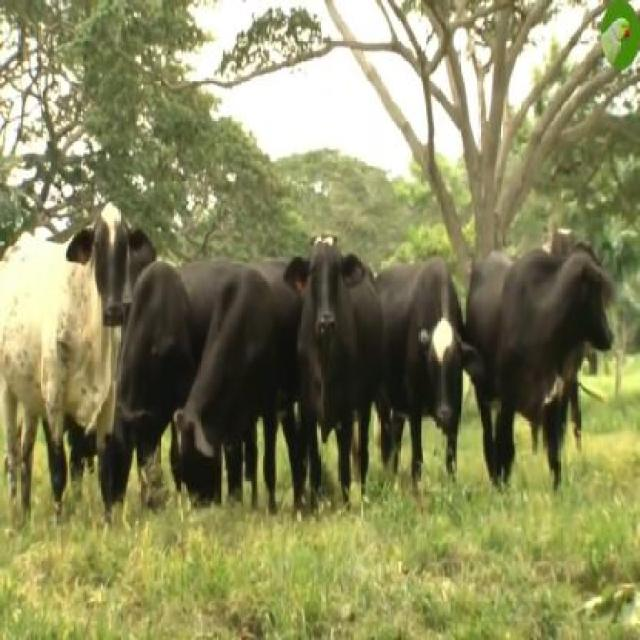Cow: (0, 204, 146, 530), (380, 238, 486, 496), (296, 229, 384, 508)
